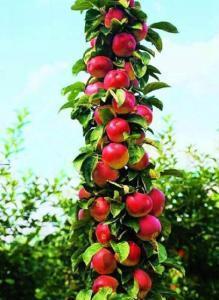apple: (126, 271, 154, 296), (92, 163, 119, 187), (125, 194, 152, 218), (135, 218, 162, 242), (103, 144, 130, 168), (90, 249, 117, 273), (105, 119, 132, 143), (89, 197, 113, 222), (84, 55, 109, 78), (105, 66, 130, 89), (110, 34, 135, 57), (111, 91, 136, 114), (119, 243, 143, 266), (92, 222, 115, 245)
